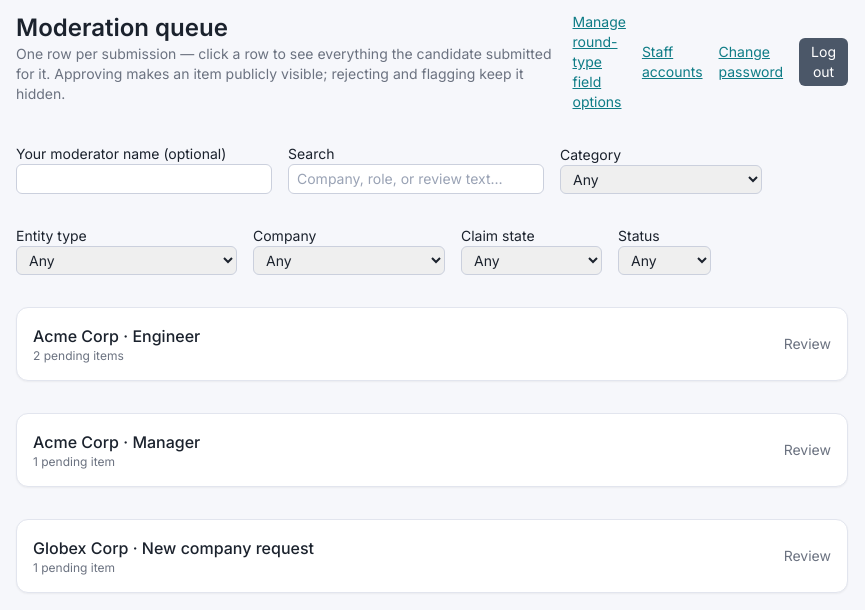
Scenario: ModerationPage (Phase 14 issue #128; session gating Phase 18 issue #160; grouped-by-submission Phase 29 issue #315) › queue filters › filter controls are hidden while searching
Check: the heading "Acme Corp · Engineer" is shown, box [33,324,200,348]
In the search field labelled "Search": (416, 179) [288,164,544,194], type "acme"
Wait 300 ms
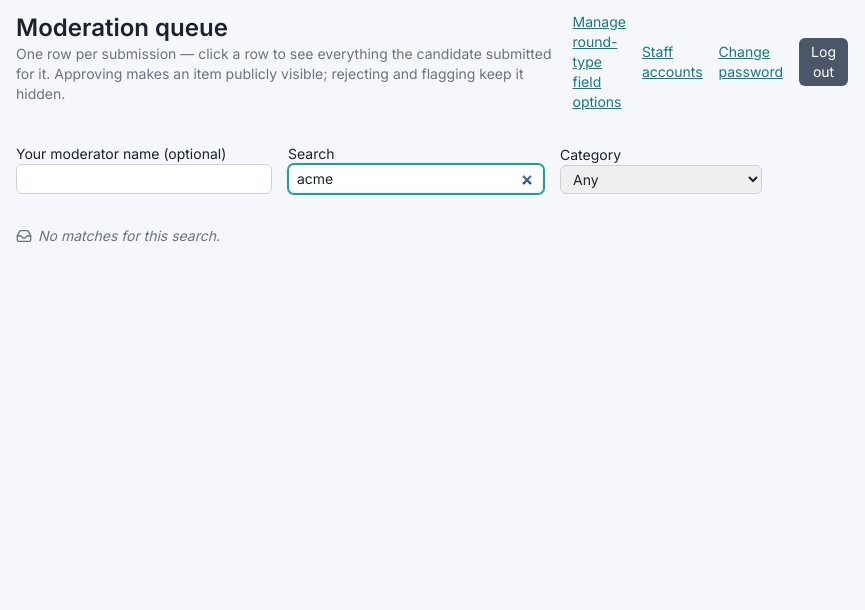
Check: the label labelled "Entity type" is gone
